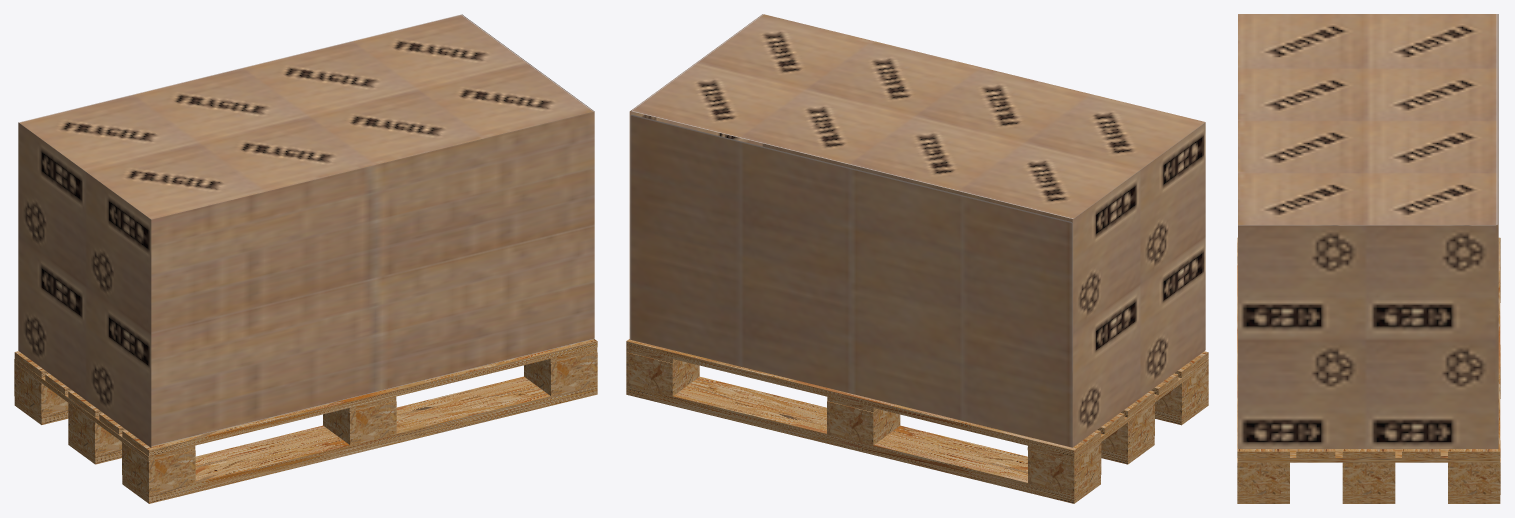
Rendered from palletExported.fbx.
3 views of the same model, side by side, from view 1: azimuth 30°, elevation 25°; view 2: azimuth 150°, elevation 25°; view 3: azimuth 270°, elevation 25° (orthographic). The views are drawn at different scales.
Parts seen in each view (by area): view 1: package, palletLegRight, palletLegRight1, palletKlods, palletKlods3, palletKlods8, palletLegLeft2, palletKlods2, palletKlods1; view 2: package, palletLegLeft, palletLegLeft2, palletKlods2, palletKlods6, palletKlods5, palletKlods, palletKlods1; view 3: package, palletLegLeft2, palletKlods7, palletKlods6, palletKlods3, palletLegRight1, palletLegMid, palletLegRight, palletLegLeft, palletLegMid1, palletLegRight2, palletLegRight3.
Part boxes in pixels (x1,y1,x2,y2): package: (18, 14, 594, 447); palletLegRight: (122, 376, 597, 503); palletLegRight1: (122, 339, 597, 456); palletKlods: (122, 442, 195, 494); palletKlods3: (524, 352, 597, 396); palletKlods8: (323, 401, 396, 445); palletLegLeft2: (14, 347, 597, 461); palletKlods2: (14, 363, 68, 415); palletKlods1: (68, 403, 121, 455); package: (629, 14, 1205, 447); palletLegLeft: (626, 376, 1100, 503); palletLegLeft2: (626, 339, 1208, 461); palletKlods2: (1028, 442, 1101, 494); palletKlods6: (626, 352, 699, 396); palletKlods5: (827, 401, 900, 445); palletKlods: (1155, 363, 1208, 415); palletKlods1: (1101, 403, 1154, 455); package: (1238, 14, 1498, 448); palletLegLeft2: (1238, 237, 1500, 462); palletKlods7: (1342, 462, 1395, 494); palletKlods6: (1448, 440, 1500, 494); palletKlods3: (1237, 458, 1289, 494); palletLegRight1: (1237, 237, 1289, 457); palletLegMid: (1342, 494, 1395, 503); palletLegRight: (1237, 494, 1289, 503); palletLegLeft: (1448, 494, 1500, 503); palletLegMid1: (1342, 449, 1395, 457); palletLegRight2: (1296, 449, 1335, 457); palletLegRight3: (1402, 449, 1440, 457).
Size of the model in its own units: 3.37 by 2.03 by 1.75.
